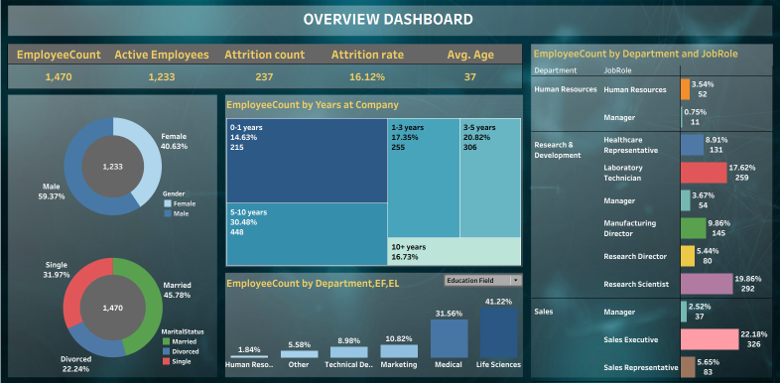

Layout of this report page (visuals, bound fields, positions):
{"tool":"tableau","page":{"name":"OVERVIEW","canvas":[1620,800],"ordinal":1},"visuals":[{"type":"image","param":"Image/KTDN Nhóm 4 (2).png","box":[8,8,1604,784]},{"type":"worksheet","title":"Title overview","mark":"Automatic","box":[38,25,1535,60]},{"type":"worksheet","title":"KPI","mark":"Automatic","box":[38,102,1038,91]},{"type":"worksheet","title":"EmployeeCount by Department and JobRole","mark":"Automatic","rows":["Department","JobRole"],"cols":["EmployeeCount"],"box":[1094,102,487,680]},{"type":"worksheet","title":"EmployeeCount by Years at Company","mark":"Automatic","box":[475,205,601,346]},{"type":"worksheet","title":"Dounout","mark":"Pie","rows":["Calculation_2118265472045066","Calculation_2118265472045066","Calculation_2118265472045066","Calculation_2118265472045066"],"box":[39,206,423,569]},{"type":"legend","title":"Dounout","param":"[federated.1vb3wkh14cl6ws15iny691sp7f6z].[none:Gender:nk]","box":[351,394,110,68]},{"type":"worksheet","title":"EmployeeCount by Department,EF,EL","mark":"Automatic","rows":["EmployeeCount"],"cols":["Calculation_2118266512437267"],"box":[475,565,604,209]},{"type":"parameter","param":"[Parameters].[Parameter 4]","box":[917,565,160,27]},{"type":"legend","title":"Dounout","param":"[federated.1vb3wkh14cl6ws15iny691sp7f6z].[none:MaritalStatus:nk]","box":[348,672,112,103]}]}

Visuals, with their boxes in screenshot pixels (x1, y1, x2, y2), scaled from the page's 1620x800 canvas onto the 780x383 screenshot:
image: x1=4 y1=4 x2=776 y2=379
"Title overview" worksheet: x1=18 y1=12 x2=757 y2=41
"KPI" worksheet: x1=18 y1=49 x2=518 y2=92
"EmployeeCount by Department and JobRole" worksheet: x1=527 y1=49 x2=761 y2=374
"EmployeeCount by Years at Company" worksheet: x1=229 y1=98 x2=518 y2=264
"Dounout" worksheet (Pie marks): x1=19 y1=99 x2=222 y2=371
"Dounout" legend: x1=169 y1=189 x2=222 y2=221
"EmployeeCount by Department,EF,EL" worksheet: x1=229 y1=270 x2=520 y2=371
parameter: x1=442 y1=270 x2=519 y2=283
"Dounout" legend: x1=168 y1=322 x2=221 y2=371
